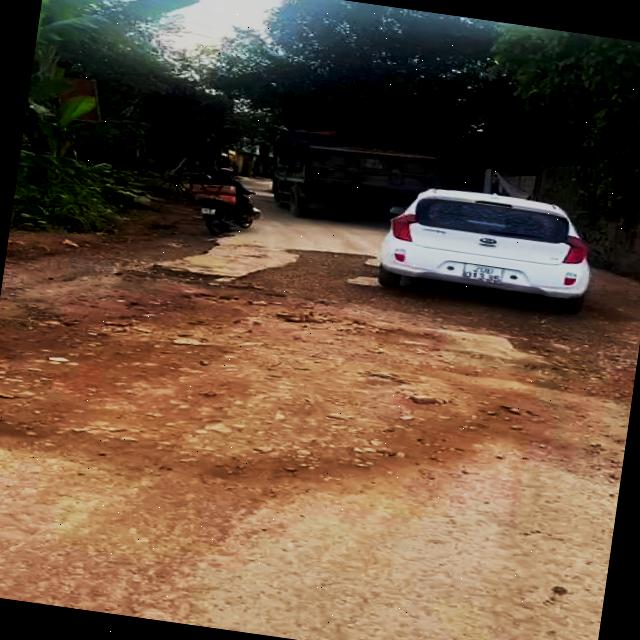pothole: (332, 313, 638, 402), (74, 252, 291, 342), (235, 234, 392, 326)
